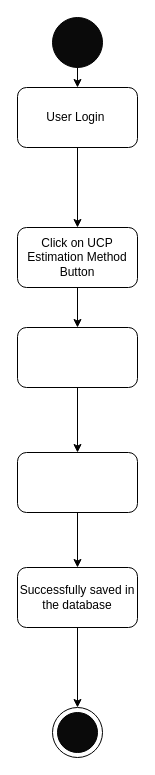
Image size: 155x775. Some labels were removed from this diagram. The shapes that lost their labels are listed below. From the top down, each one's centre as x and y in pixels, then its label:
[77,357]: Fill form of the Estimation Method
[77,482]: Save and share with other developers too
